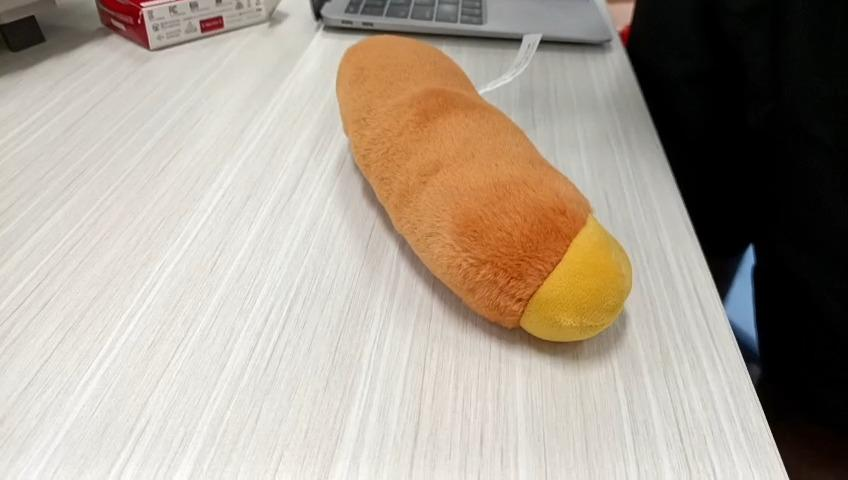hotdog: (337, 35, 633, 342)
